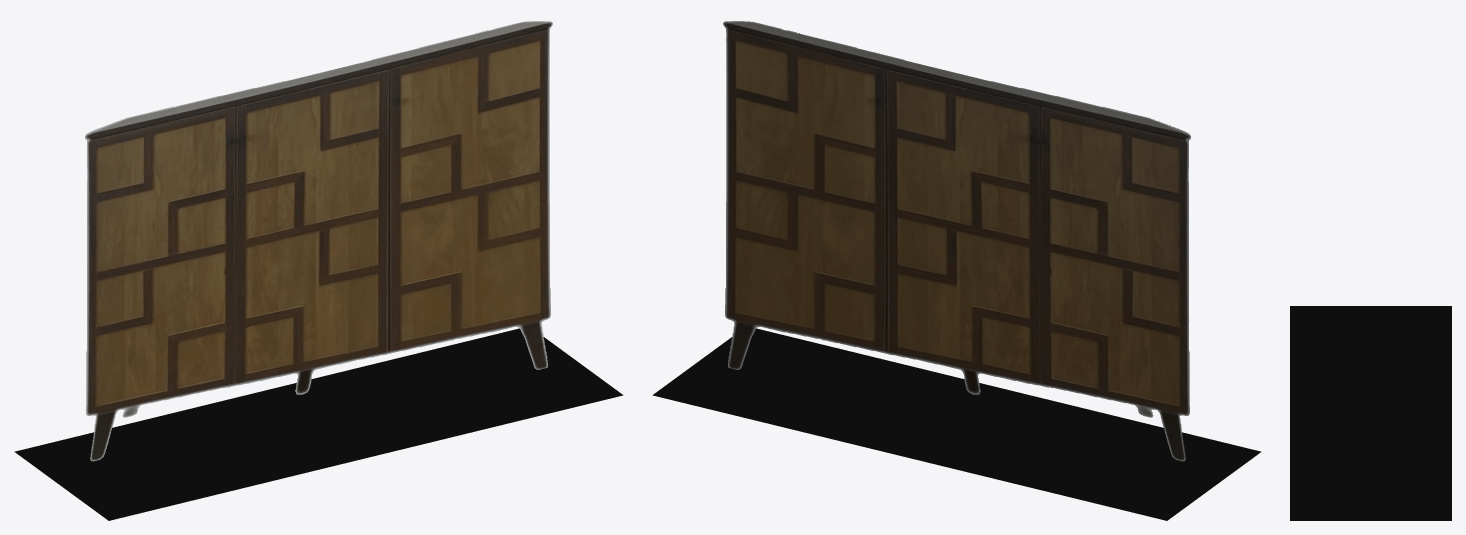
The model's file is arm-f64d1338d3.glb.
3 renders of one model, left to right at view 1: azimuth 30°, elevation 25°; view 2: azimuth 150°, elevation 25°; view 3: azimuth 270°, elevation 25°, orthographic. The views are drawn at different scales.
Size of the model in its own units: 1.32 by 0.8654 by 0.42.
Materials: 2 (2 with a texture image).
